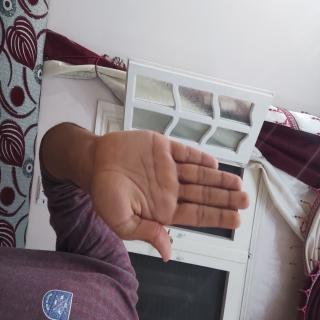SEEN: (91, 88, 198, 319)
